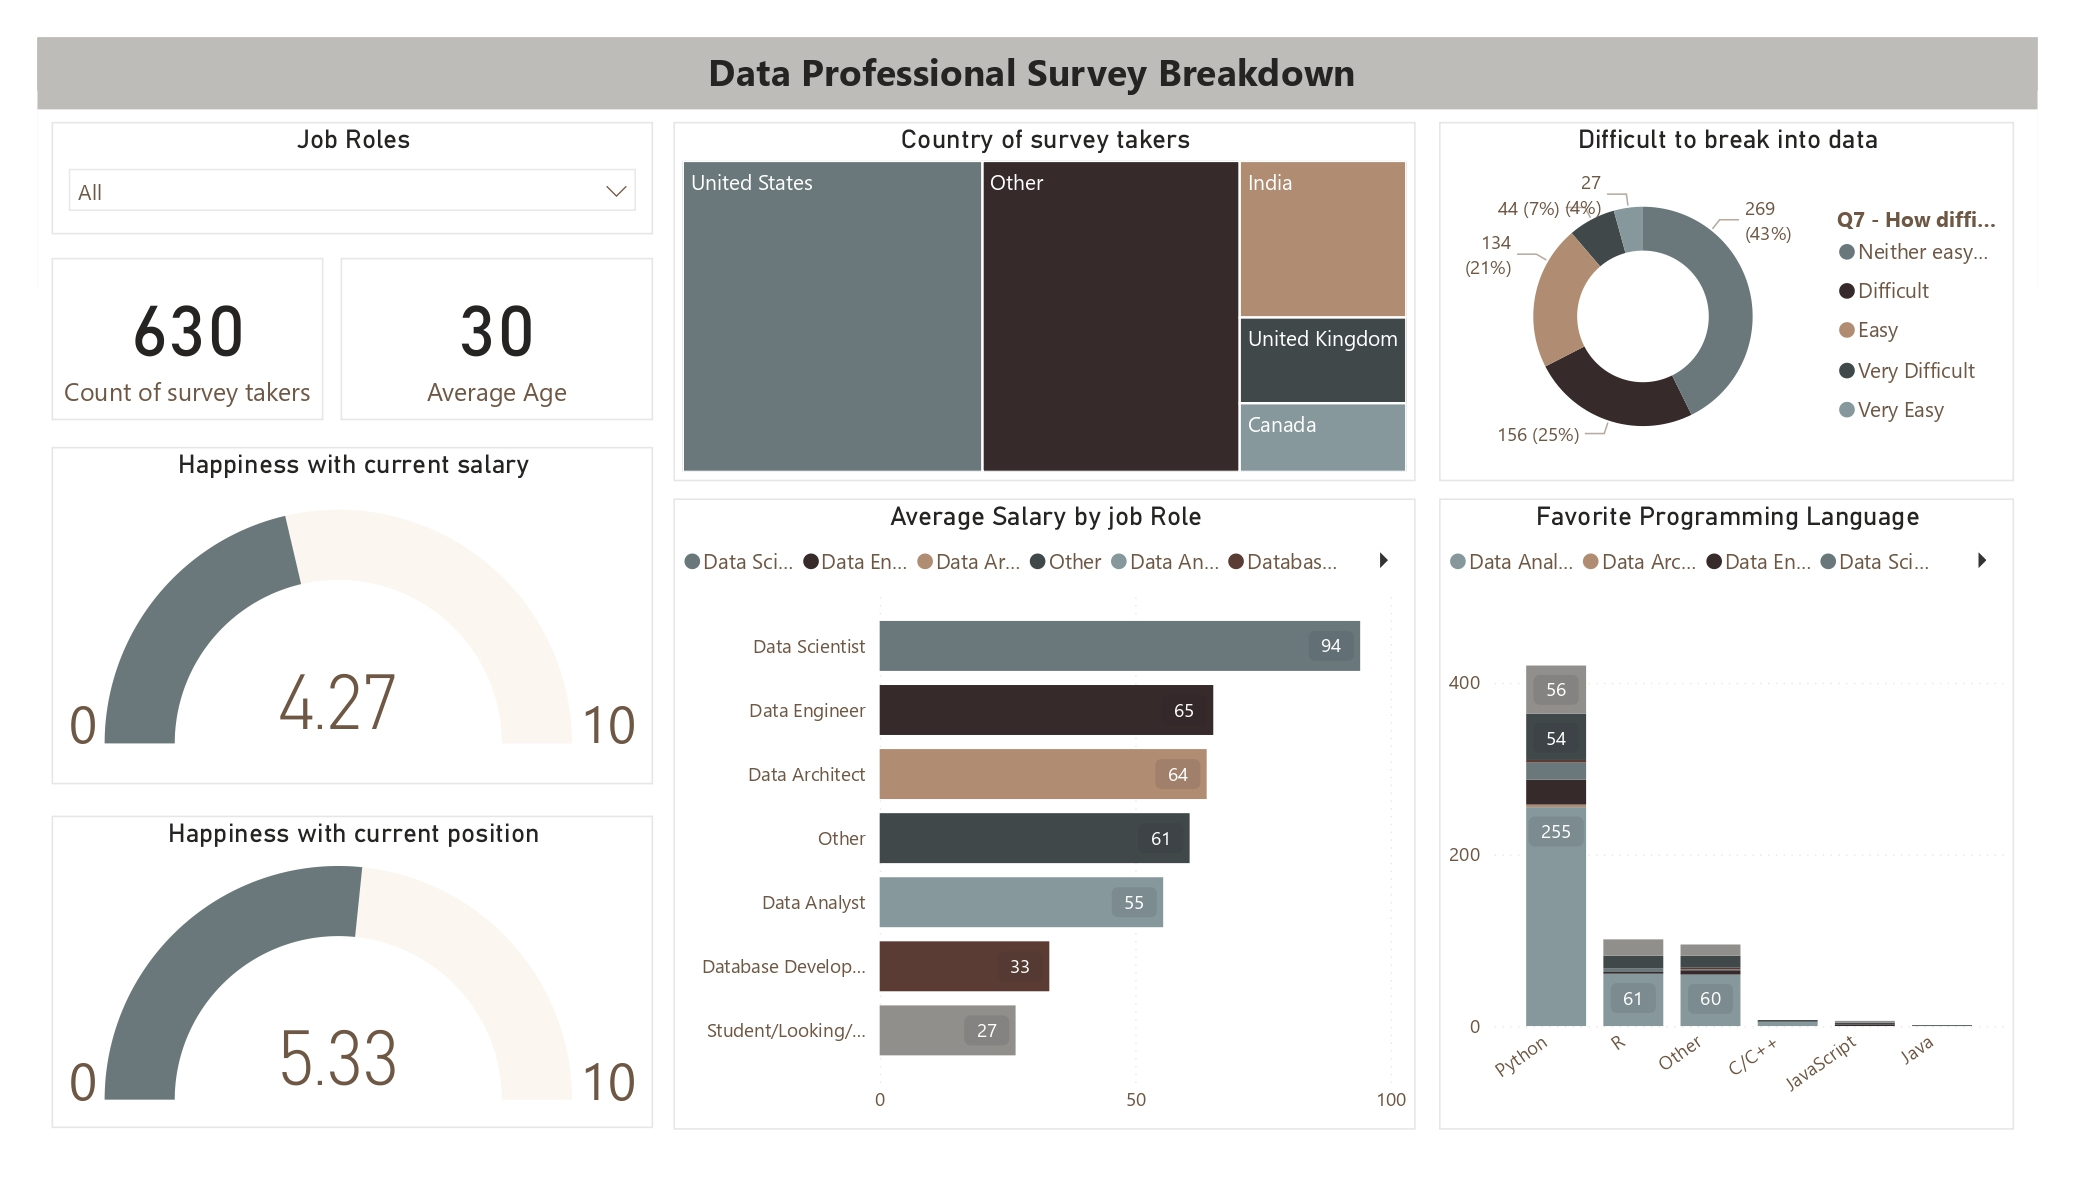

This screenshot's page, from the dashboard's own definition file:
{"tool":"powerbi","page":{"name":"Page 1","canvas":[1280,720],"ordinal":0},"visuals":[{"type":"textbox","box":[0,0,1280,46.3],"z":0},{"type":"card","fields":{"Values":["CountNonNull(Data Professional Survey.Unique ID)"]},"box":[9.1,141.3,174.3,103.7],"z":1000},{"type":"card","fields":{"Values":["Avg(Data Professional Survey.Q10 - Current Age)"]},"box":[193.7,141.3,200.5,103.7],"z":2000},{"type":"barChart","title":"Average Salary by job Role","fields":{"Category":["Data Professional Survey.Q1 - Which Title Best Fits your Current Role?.1"],"Y":["Avg(Data Professional Survey.avg slry)"],"Series":["Data Professional Survey.Q1 - Which Title Best Fits your Current Role?.1"]},"box":[407.3,295.5,474.6,403.9],"z":3000},{"type":"columnChart","title":"Favorite Programming Language","fields":{"Category":["Data Professional Survey.Q5 - Favorite Programming Language.1"],"Y":["CountNonNull(Data Professional Survey.Unique ID)"],"Series":["Data Professional Survey.Q1 - Which Title Best Fits your Current Role?.1"]},"box":[896.7,295.5,368.5,403.9],"z":4000},{"type":"treemap","title":"Country of survey takers","fields":{"Group":["Data Professional Survey.Q11 - Which Country do you live in?.1"],"Values":["CountNonNull(Data Professional Survey.Q11 - Which Country do you live in?.1)"]},"box":[407.3,53.6,474.6,230.4],"z":5000},{"type":"gauge","title":"Happiness with current position","fields":{"Y":["Avg(Data Professional Survey.Q6 - How Happy are you in your Current Position with the following? (Management))"],"MinValue":["Min(Data Professional Survey.Q6 - How Happy are you in your Current Position with the following? (Management))"],"MaxValue":["Max(Data Professional Survey.Q6 - How Happy are you in your Current Position with the following? (Management))"]},"box":[9.1,497.8,385.1,200.5],"z":6000},{"type":"gauge","title":"Happiness with current salary","fields":{"Y":["Avg(Data Professional Survey.Q6 - How Happy are you in your Current Position with the following? (Salary))"],"MinValue":["Min(Data Professional Survey.Q6 - How Happy are you in your Current Position with the following? (Salary))"],"MaxValue":["Max(Data Professional Survey.Q6 - How Happy are you in your Current Position with the following? (Salary))"]},"box":[9.1,262,385.1,216.5],"z":7000},{"type":"donutChart","title":"Difficult to break into data","fields":{"Category":["Data Professional Survey.Q7 - How difficult was it for you to break into Data?"],"Y":["CountNonNull(Data Professional Survey.Q7 - How difficult was it for you to break into Data?)"]},"box":[896.7,53.6,368.5,230.4],"z":8000},{"type":"slicer","title":"Job Roles","fields":{"Values":["Data Professional Survey.Q1 - Which Title Best Fits your Current Role?.1"]},"box":[9.1,53.5,385.1,72.9],"z":8001}]}

Visuals, with their boxes in screenshot pixels (x1, y1, x2, y2):
textbox: 38,38,2038,110
card - CountNonNull(Data Professional Survey.Unique ID): 52,258,324,420
card - Avg(Data Professional Survey.Q10 - Current Age): 340,258,653,420
"Average Salary by job Role" barChart: 674,499,1415,1130
"Favorite Programming Language" columnChart: 1439,499,2014,1130
"Country of survey takers" treemap: 674,121,1415,481
"Happiness with current position" gauge: 52,815,653,1129
"Happiness with current salary" gauge: 52,447,653,785
"Difficult to break into data" donutChart: 1439,121,2014,481
"Job Roles" slicer: 52,121,653,235
